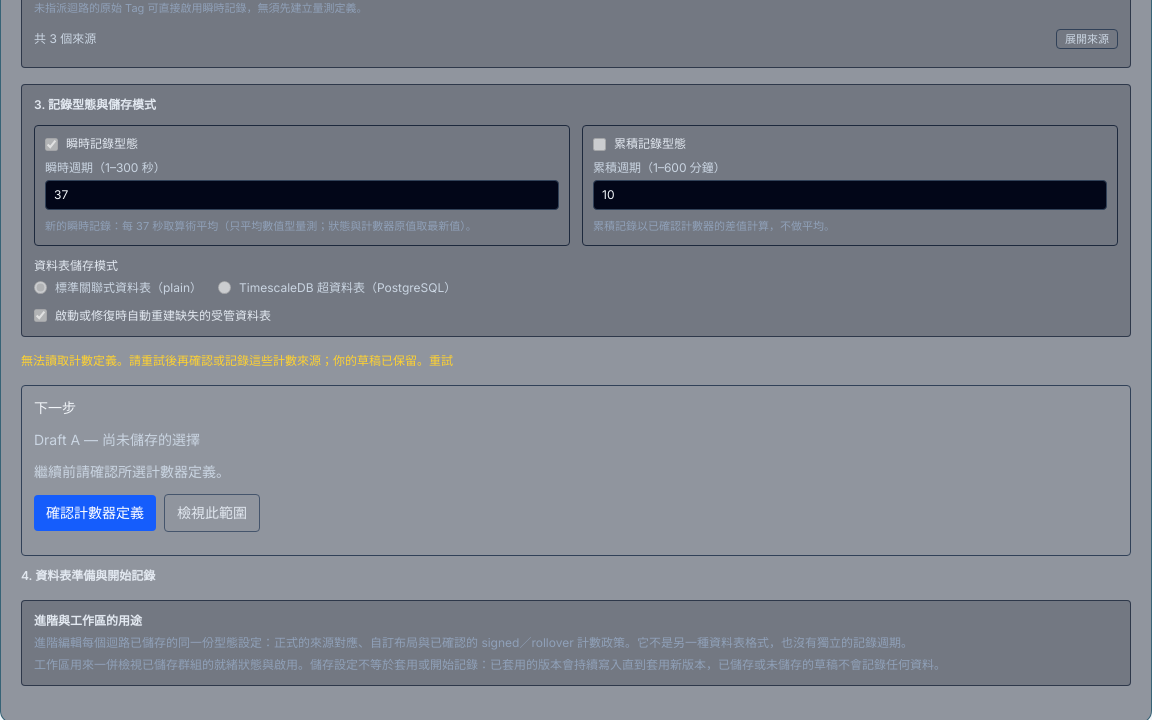
Test: scoped counter definition read recovery › keeps readonly retry available with safe Traditional Chinese guidance
The image size is (1152, 720).
(page scrolled)
Expected: the message with test id "circuit-profile-measurements-error" shows "無法讀取計數定義。請重試後再確認或記錄這些計數來源；你的草稿已保留。", left=21, top=353, right=429, bottom=368
What coordinates should you click on to do the following:
click the button "重試"
I would click on:
 (441, 361)
Its box is left=429, top=353, right=453, bottom=369.
(page scrolled)
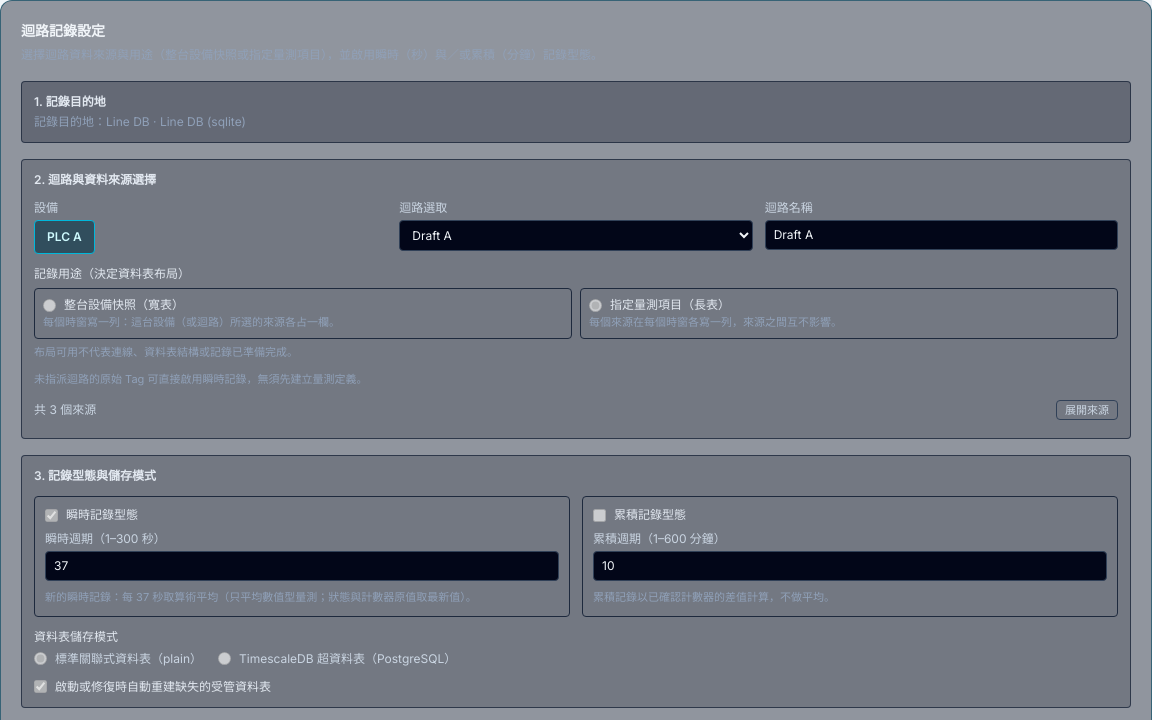
Expected: the field with test id "circuit-profile-circuit-name" holds "Draft A", left=765, top=220, right=1118, bottom=250
Result: the message with test id "circuit-profile-measurements-error" is gone
